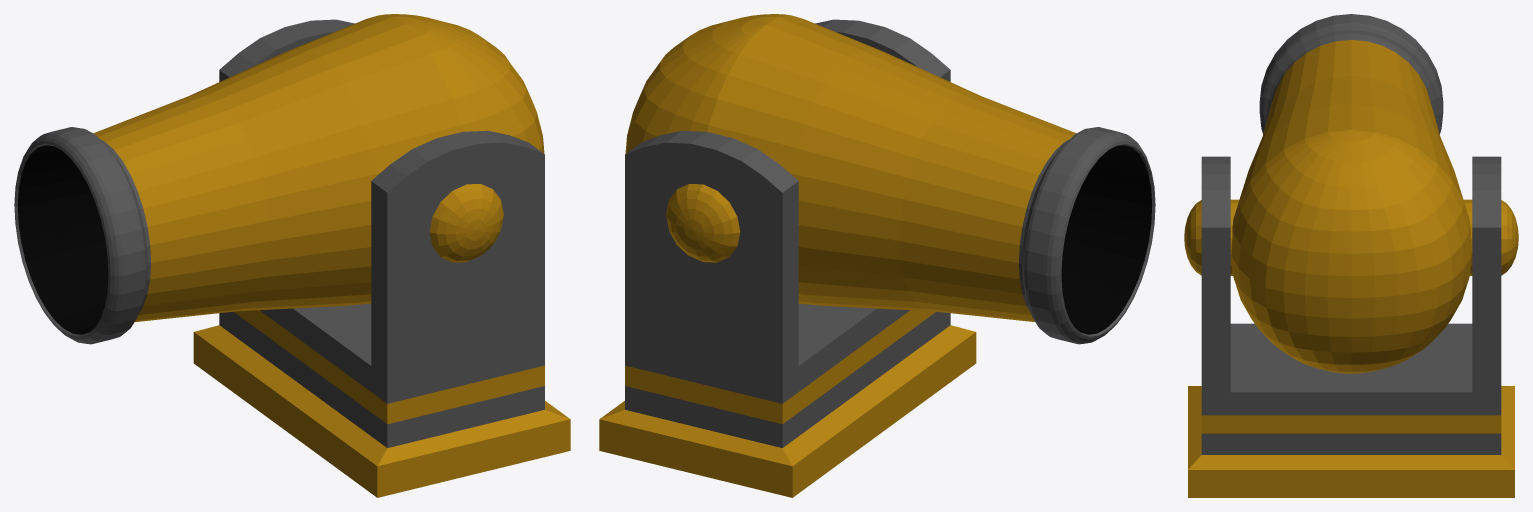
The model's file is gulle.fbx.
3 views of the same model, side by side, from view 1: azimuth 30°, elevation 25°; view 2: azimuth 150°, elevation 25°; view 3: azimuth 270°, elevation 25° (orthographic). The views are drawn at different scales.
Parts seen in each view (by area): view 1: Sphere, Object; view 2: Sphere, Object; view 3: Sphere, Object.
Boxes of the visible parts, x1,y1,x2,y2 form: Sphere: (14,14,544,344); Object: (193,19,570,497); Sphere: (625,14,1155,344); Object: (599,19,976,497); Sphere: (1231,14,1471,373); Object: (1184,156,1518,497).
Bounding box in the file's own units: 301 × 236 × 213.
